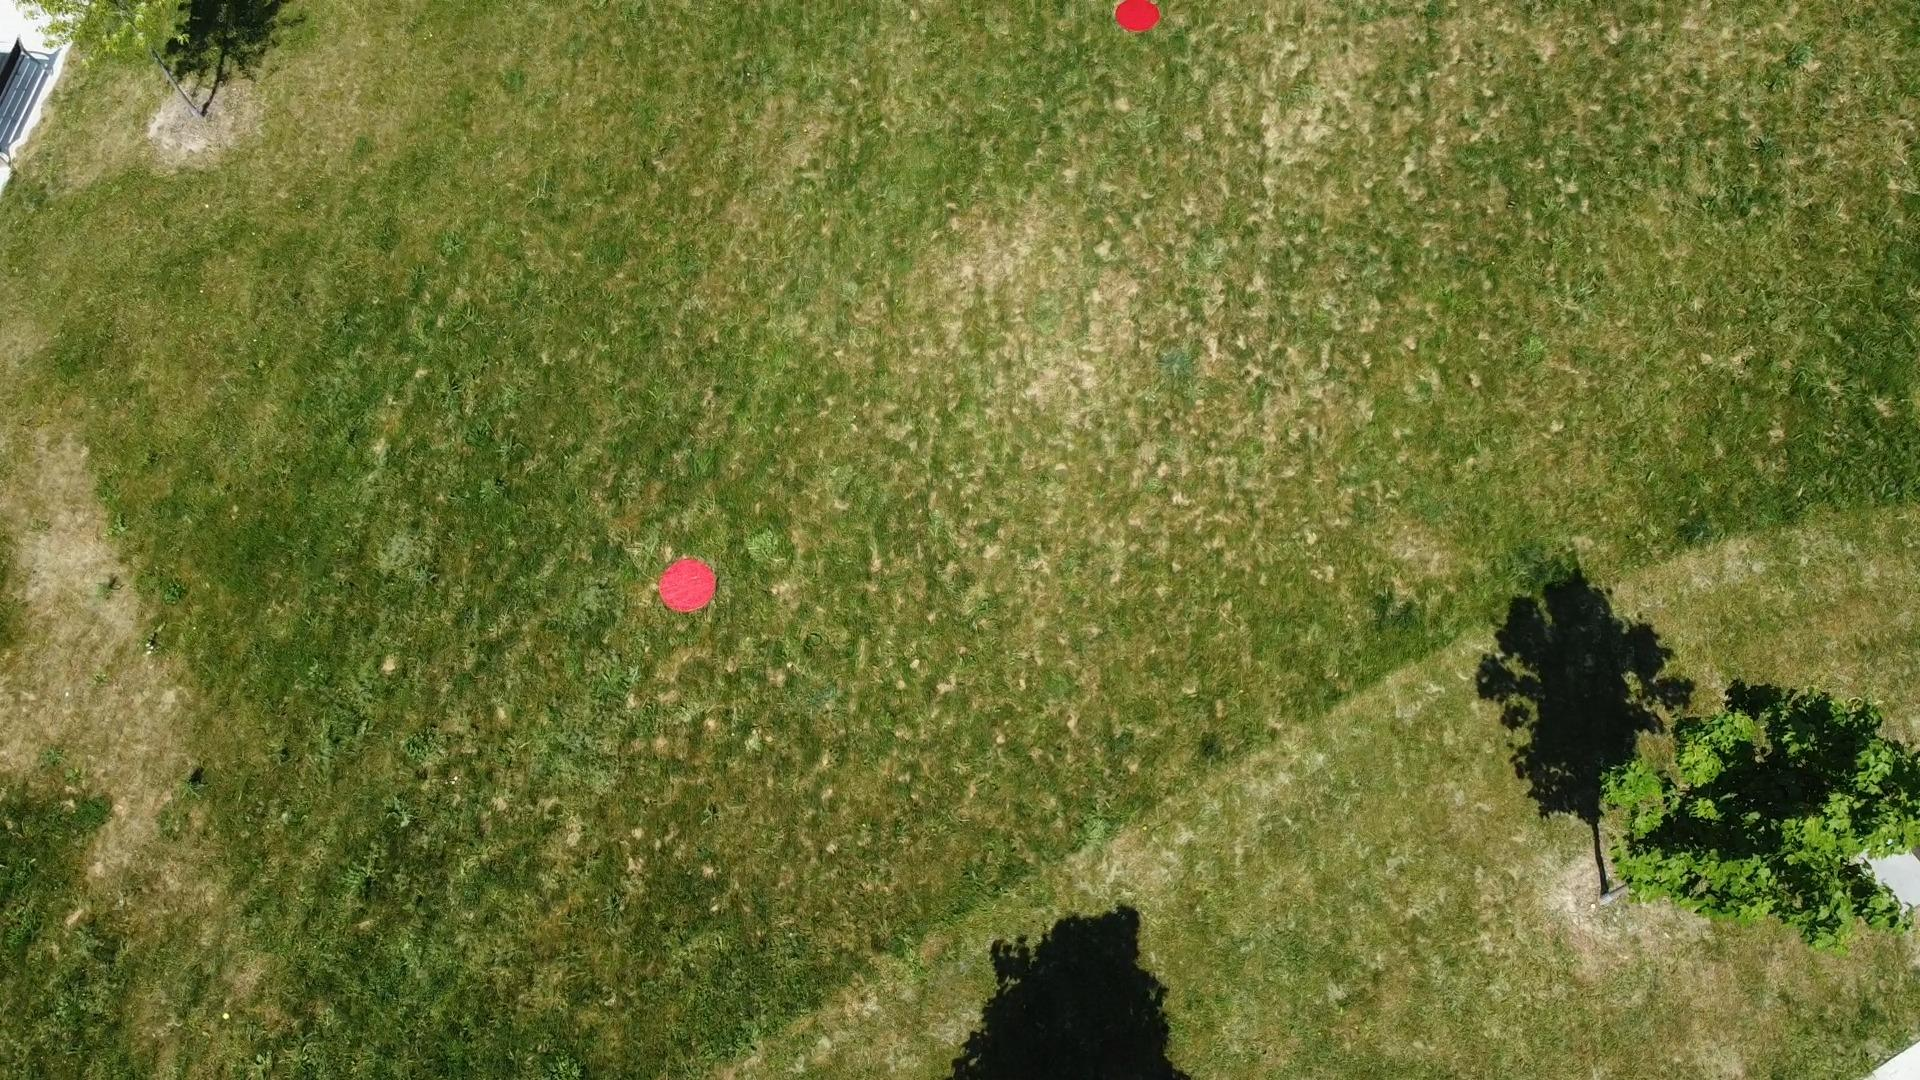Red: (657, 555, 720, 615), (1113, 0, 1162, 36)
